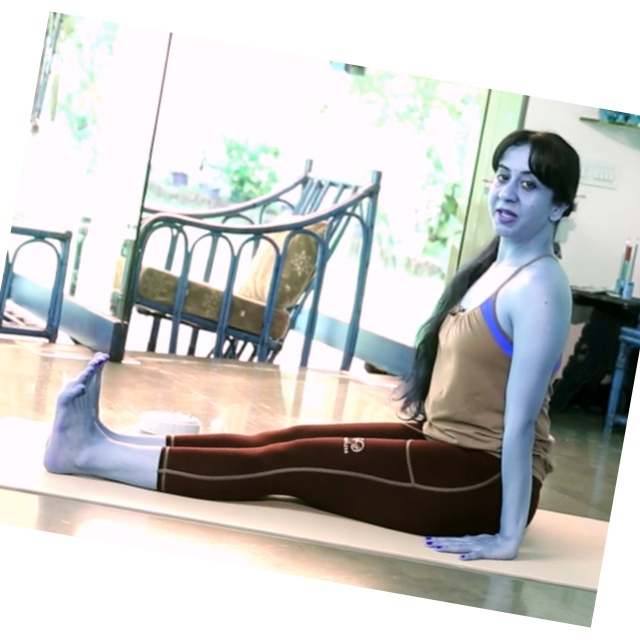Staff_Pose: (44, 128, 578, 561)
